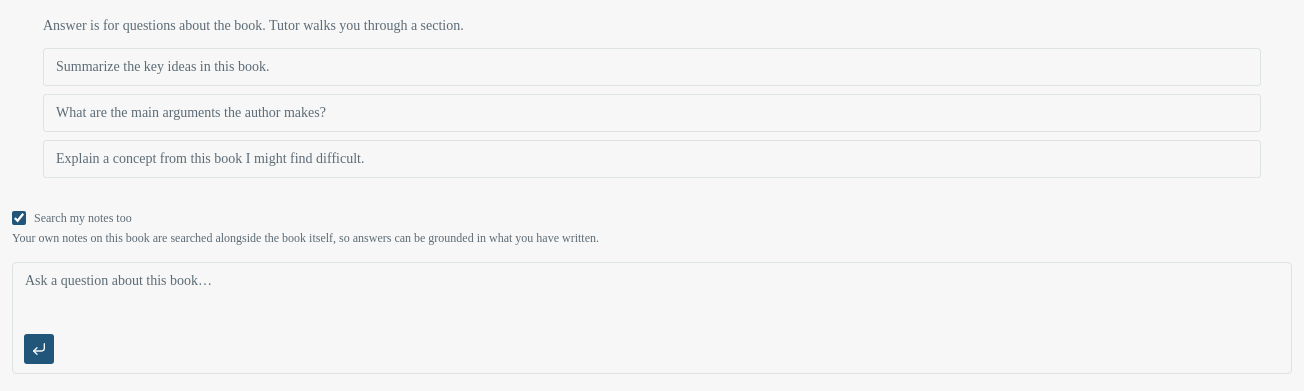
AskPanel on the conversation surface › renders the whole-book not-found state with no citations
Type "nonsense token" into the text box with placeholder "Ask a question about this book…" at coordinates (652, 295), box [13, 263, 1291, 327]
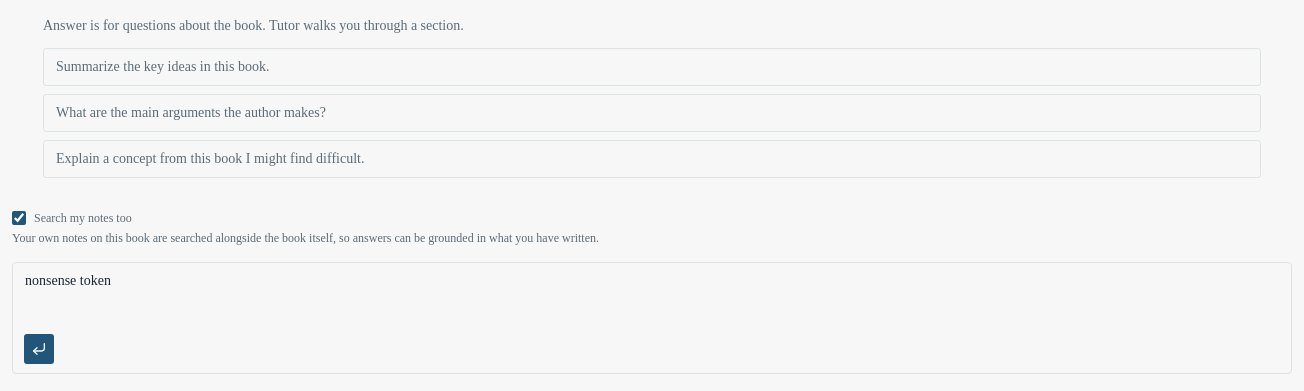
Click the button named "Submit" at coordinates (39, 349), box [23, 333, 55, 365]
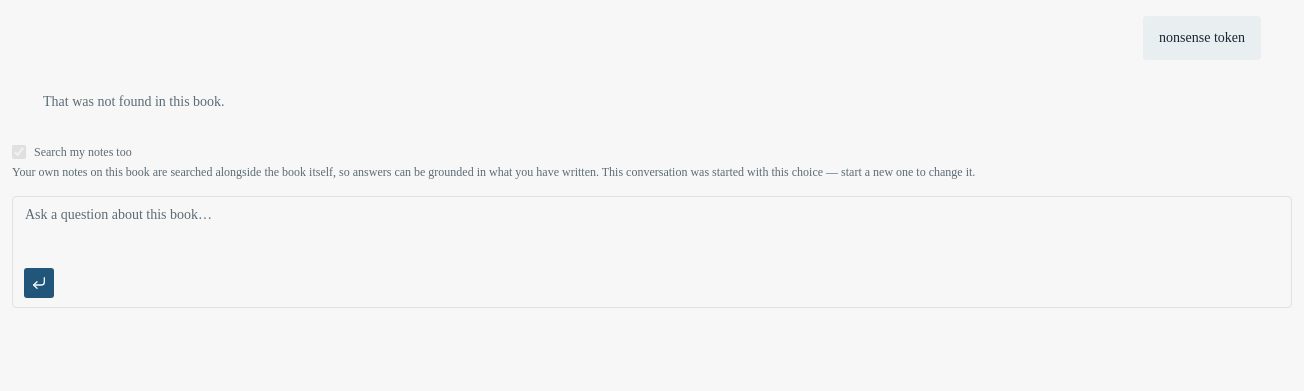
Now the text "nonsense token" is shown, box [1159, 28, 1245, 48]
Now the text with test id "not-found" shows "not found in this book", box [43, 94, 225, 109]
